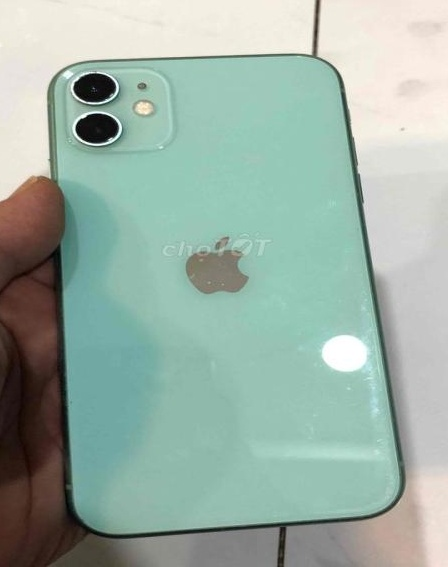scratch: (322, 293, 410, 488), (175, 245, 248, 305), (179, 348, 240, 386), (63, 135, 91, 160), (66, 82, 88, 110), (99, 108, 127, 127), (72, 64, 102, 79), (97, 91, 118, 101)
